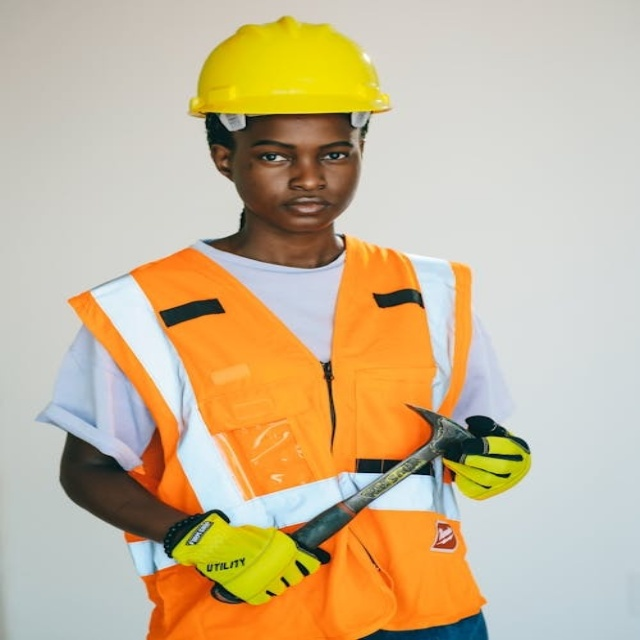Guantes: (164, 509, 323, 606), (438, 415, 530, 500)
Sin_gafas: (246, 135, 355, 166)
Sin_mascara: (274, 193, 335, 225)
